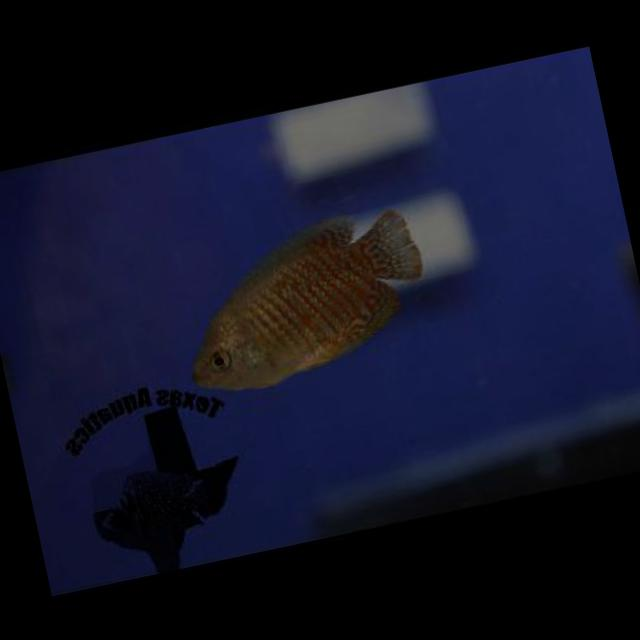Gourami: (164, 188, 450, 400)
